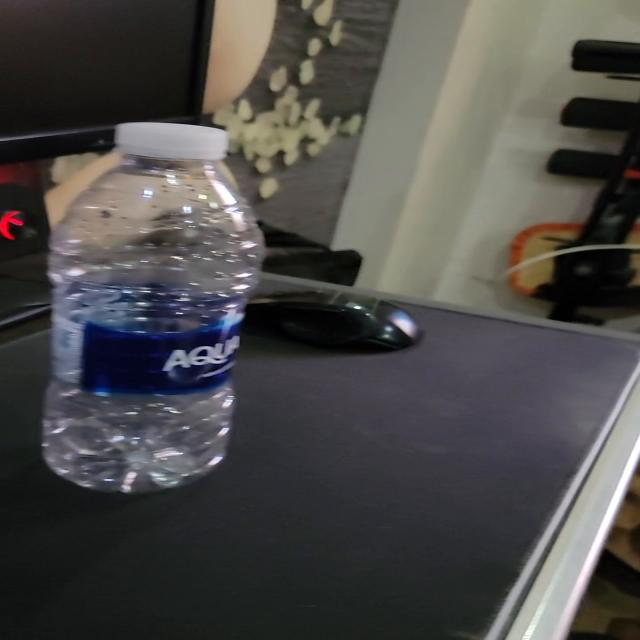Anorganik: (39, 121, 274, 496)
